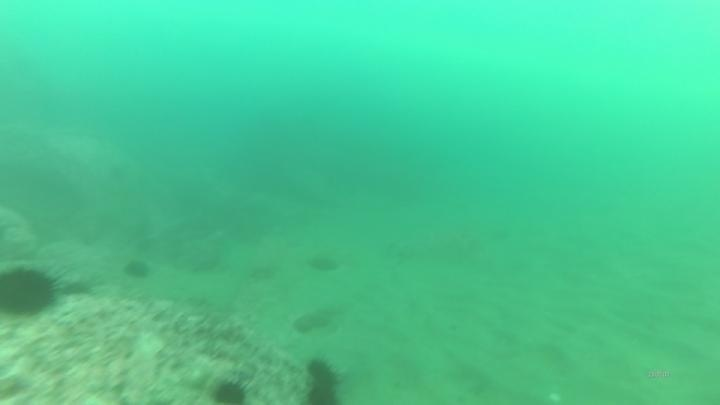echinus: (1, 260, 63, 321), (209, 377, 250, 405), (306, 251, 341, 276), (121, 256, 153, 283), (310, 384, 342, 405), (65, 279, 97, 299), (307, 359, 332, 377), (316, 371, 340, 387)
